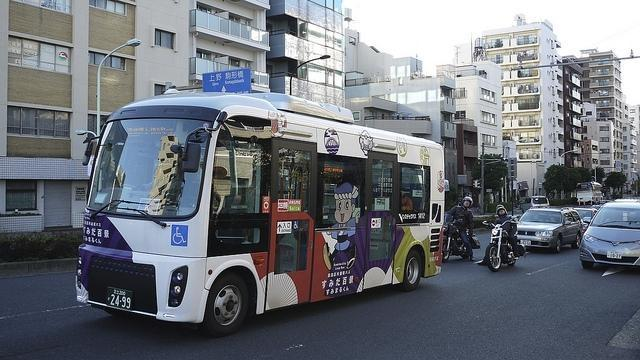bus: (71, 87, 446, 338)
car: (579, 200, 640, 268), (514, 207, 584, 254), (572, 208, 598, 234), (521, 196, 550, 213)
motorcycle: (485, 216, 521, 272), (443, 212, 481, 264)
